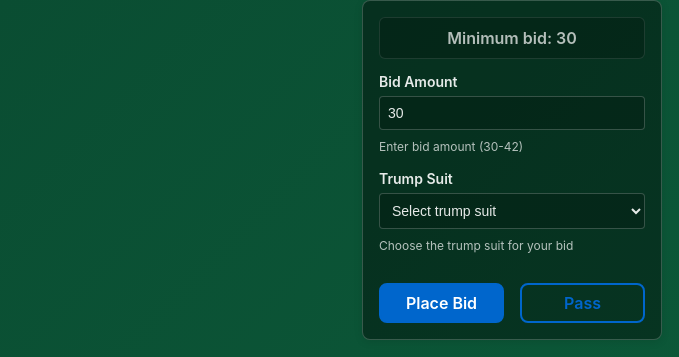
Test: BiddingPanel › Bid Submission › resets form after successful bid
Replace the text in the number field labelled "Bid Amount" with "35". click: (512, 113)
box: x1=379 y1=96 x2=645 y2=130
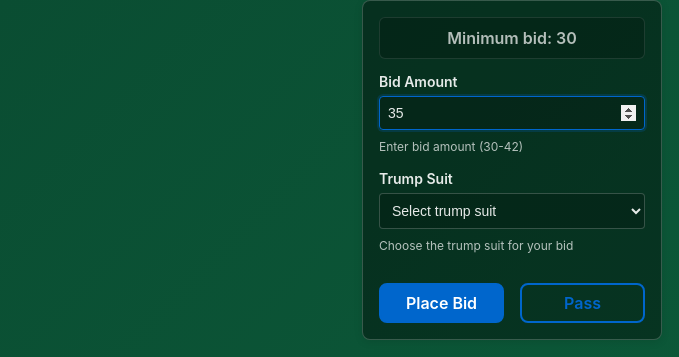
Select "Sixes" in the dropdown labelled "Trump Suit". click: (512, 211)
box: x1=379 y1=193 x2=645 y2=229
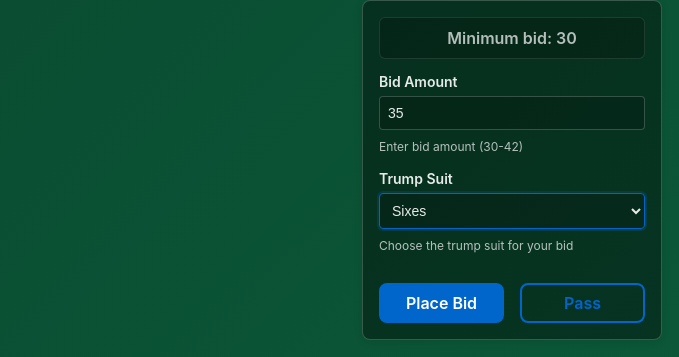
Click the button "Place Bid". click: (442, 303)
box: x1=379 y1=283 x2=504 y2=323
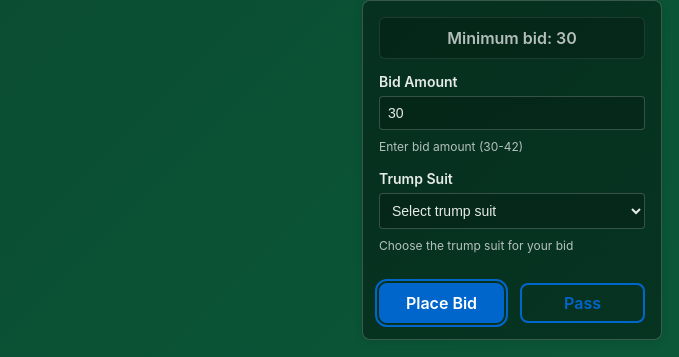
Now the number field labelled "Bid Amount" holds "30", box x1=379 y1=96 x2=645 y2=130
